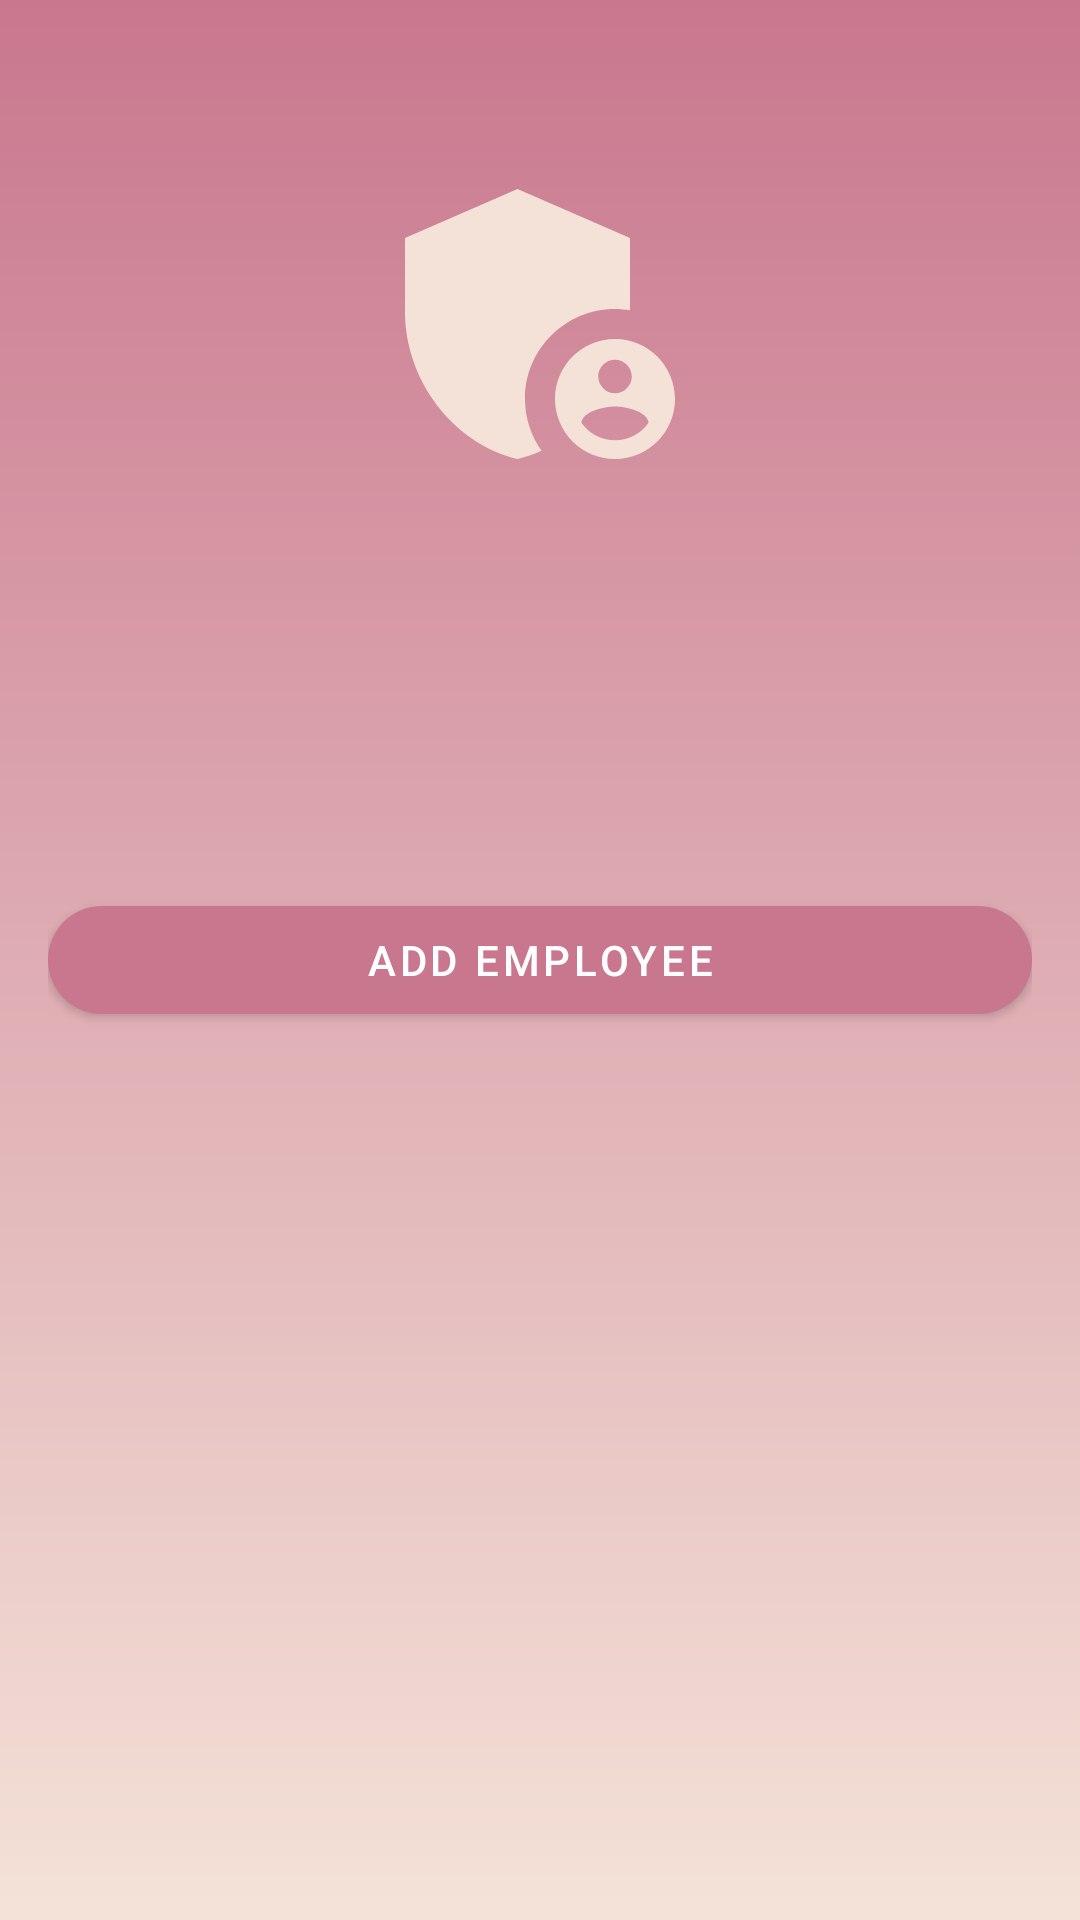

Where to tap for icons on this 1080 x 1920 app screen, as point (x, y):
admin: point (540, 324)
